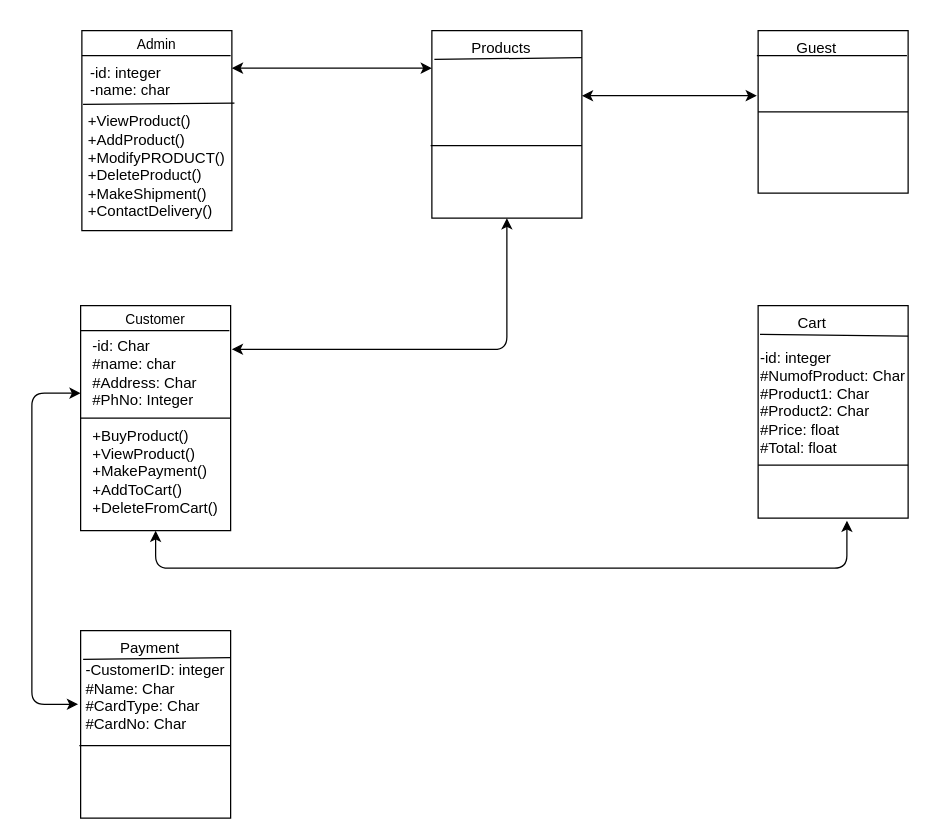
Image size: 931x840. Some labels were removed from this diagram. Each missing label, with the box of its shape:
+ViewProduct() +GetRegistered(): (757, 29, 908, 193)
-id: integer #Name: Char #Group: Char #SubGroup: Char: (431, 29, 582, 218)
